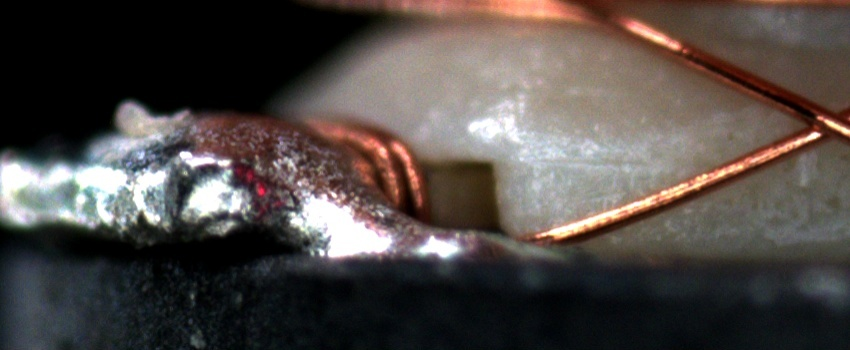CL: (778, 93, 848, 153)
DL: (529, 135, 669, 196)
TE: (303, 109, 436, 216)
